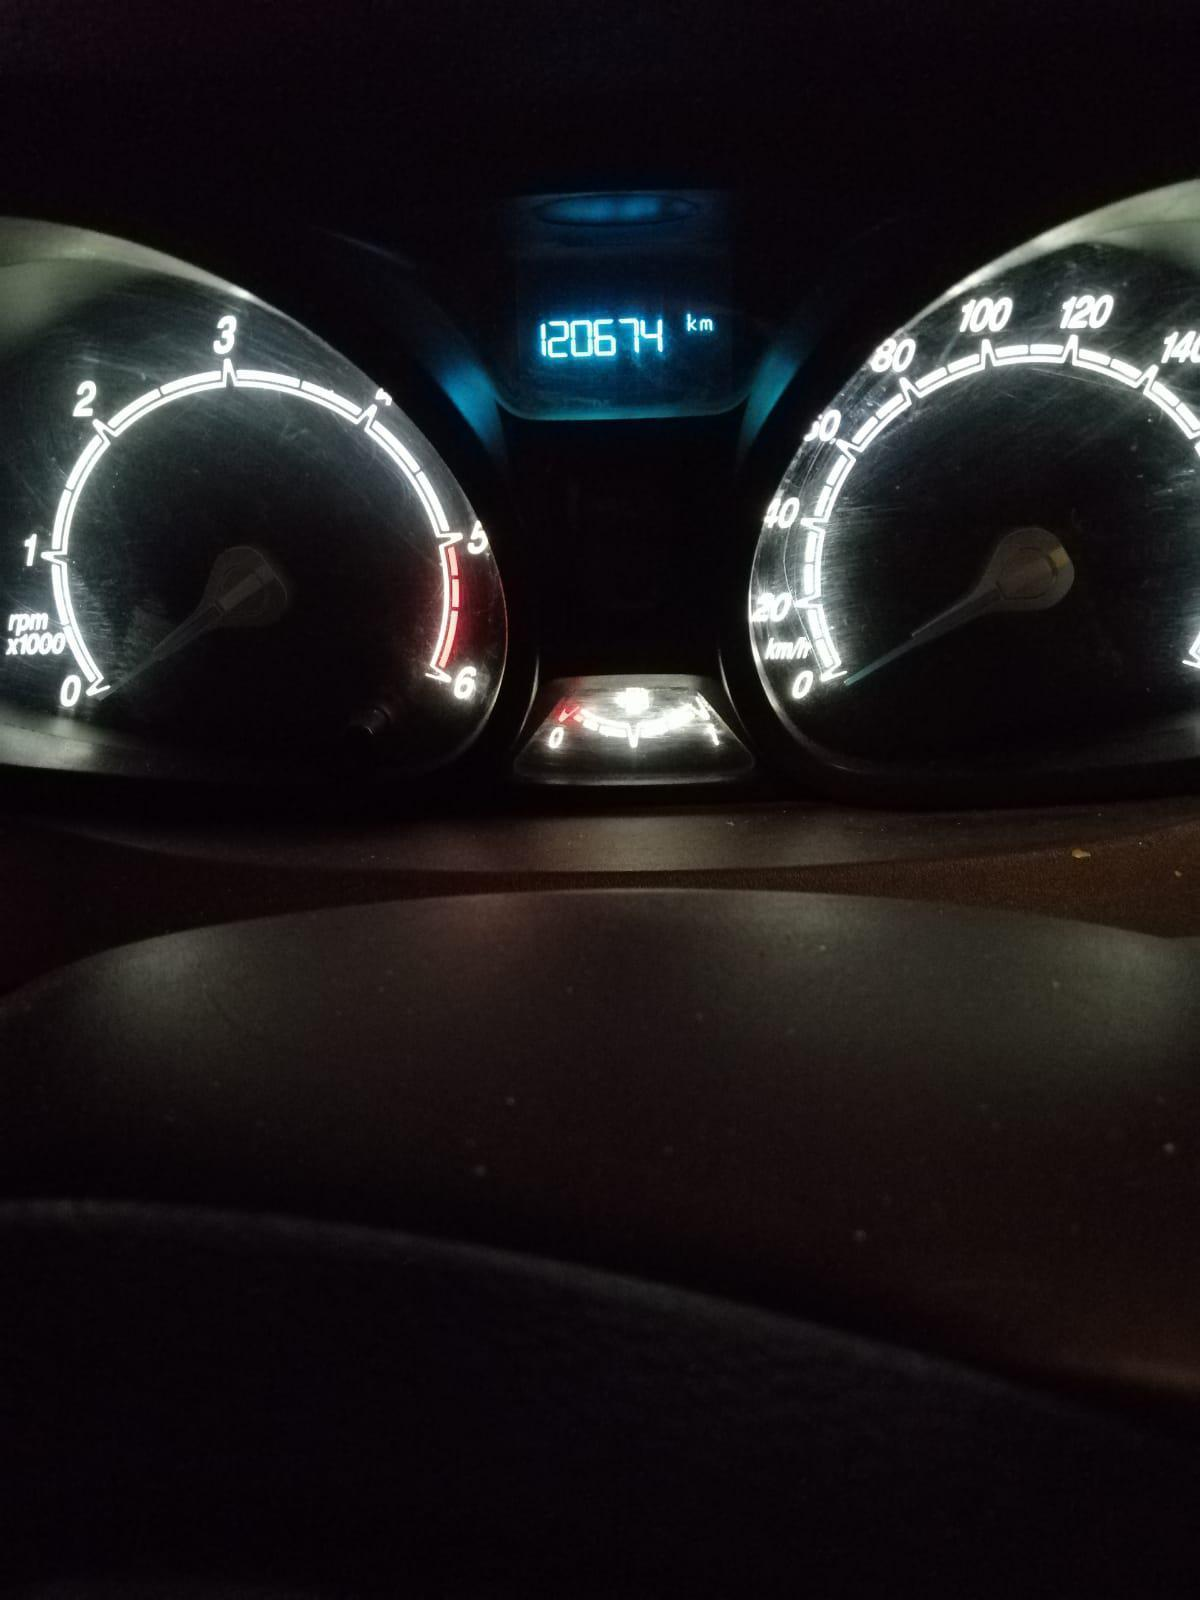0: (570, 317, 594, 359)
1: (534, 317, 548, 364)
2: (547, 317, 568, 362)
4: (640, 316, 668, 357)
6: (594, 317, 616, 359)
7: (619, 312, 640, 358)
X: (684, 310, 698, 333), (698, 316, 715, 334)
odometer: (498, 277, 736, 420)
